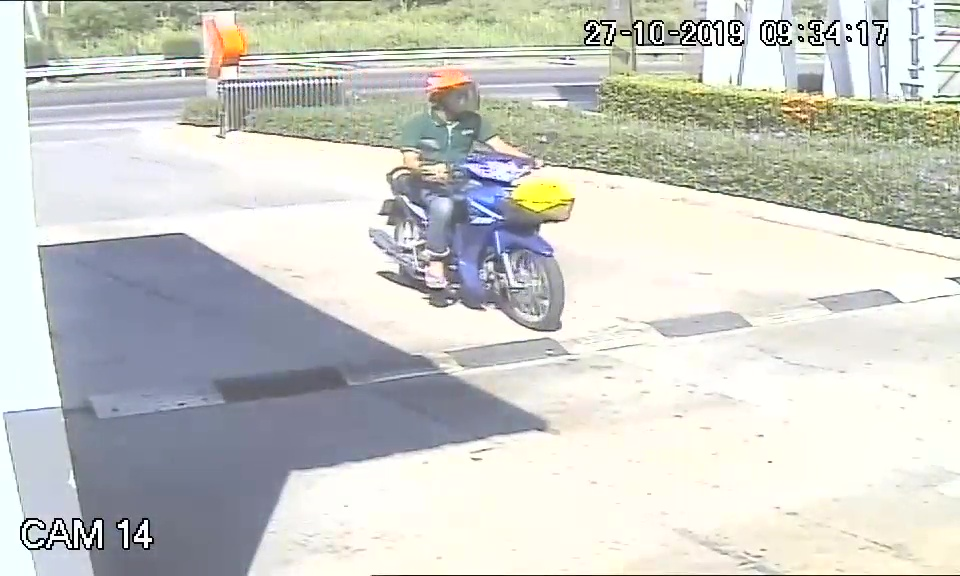motorcycle: (360, 143, 567, 332)
